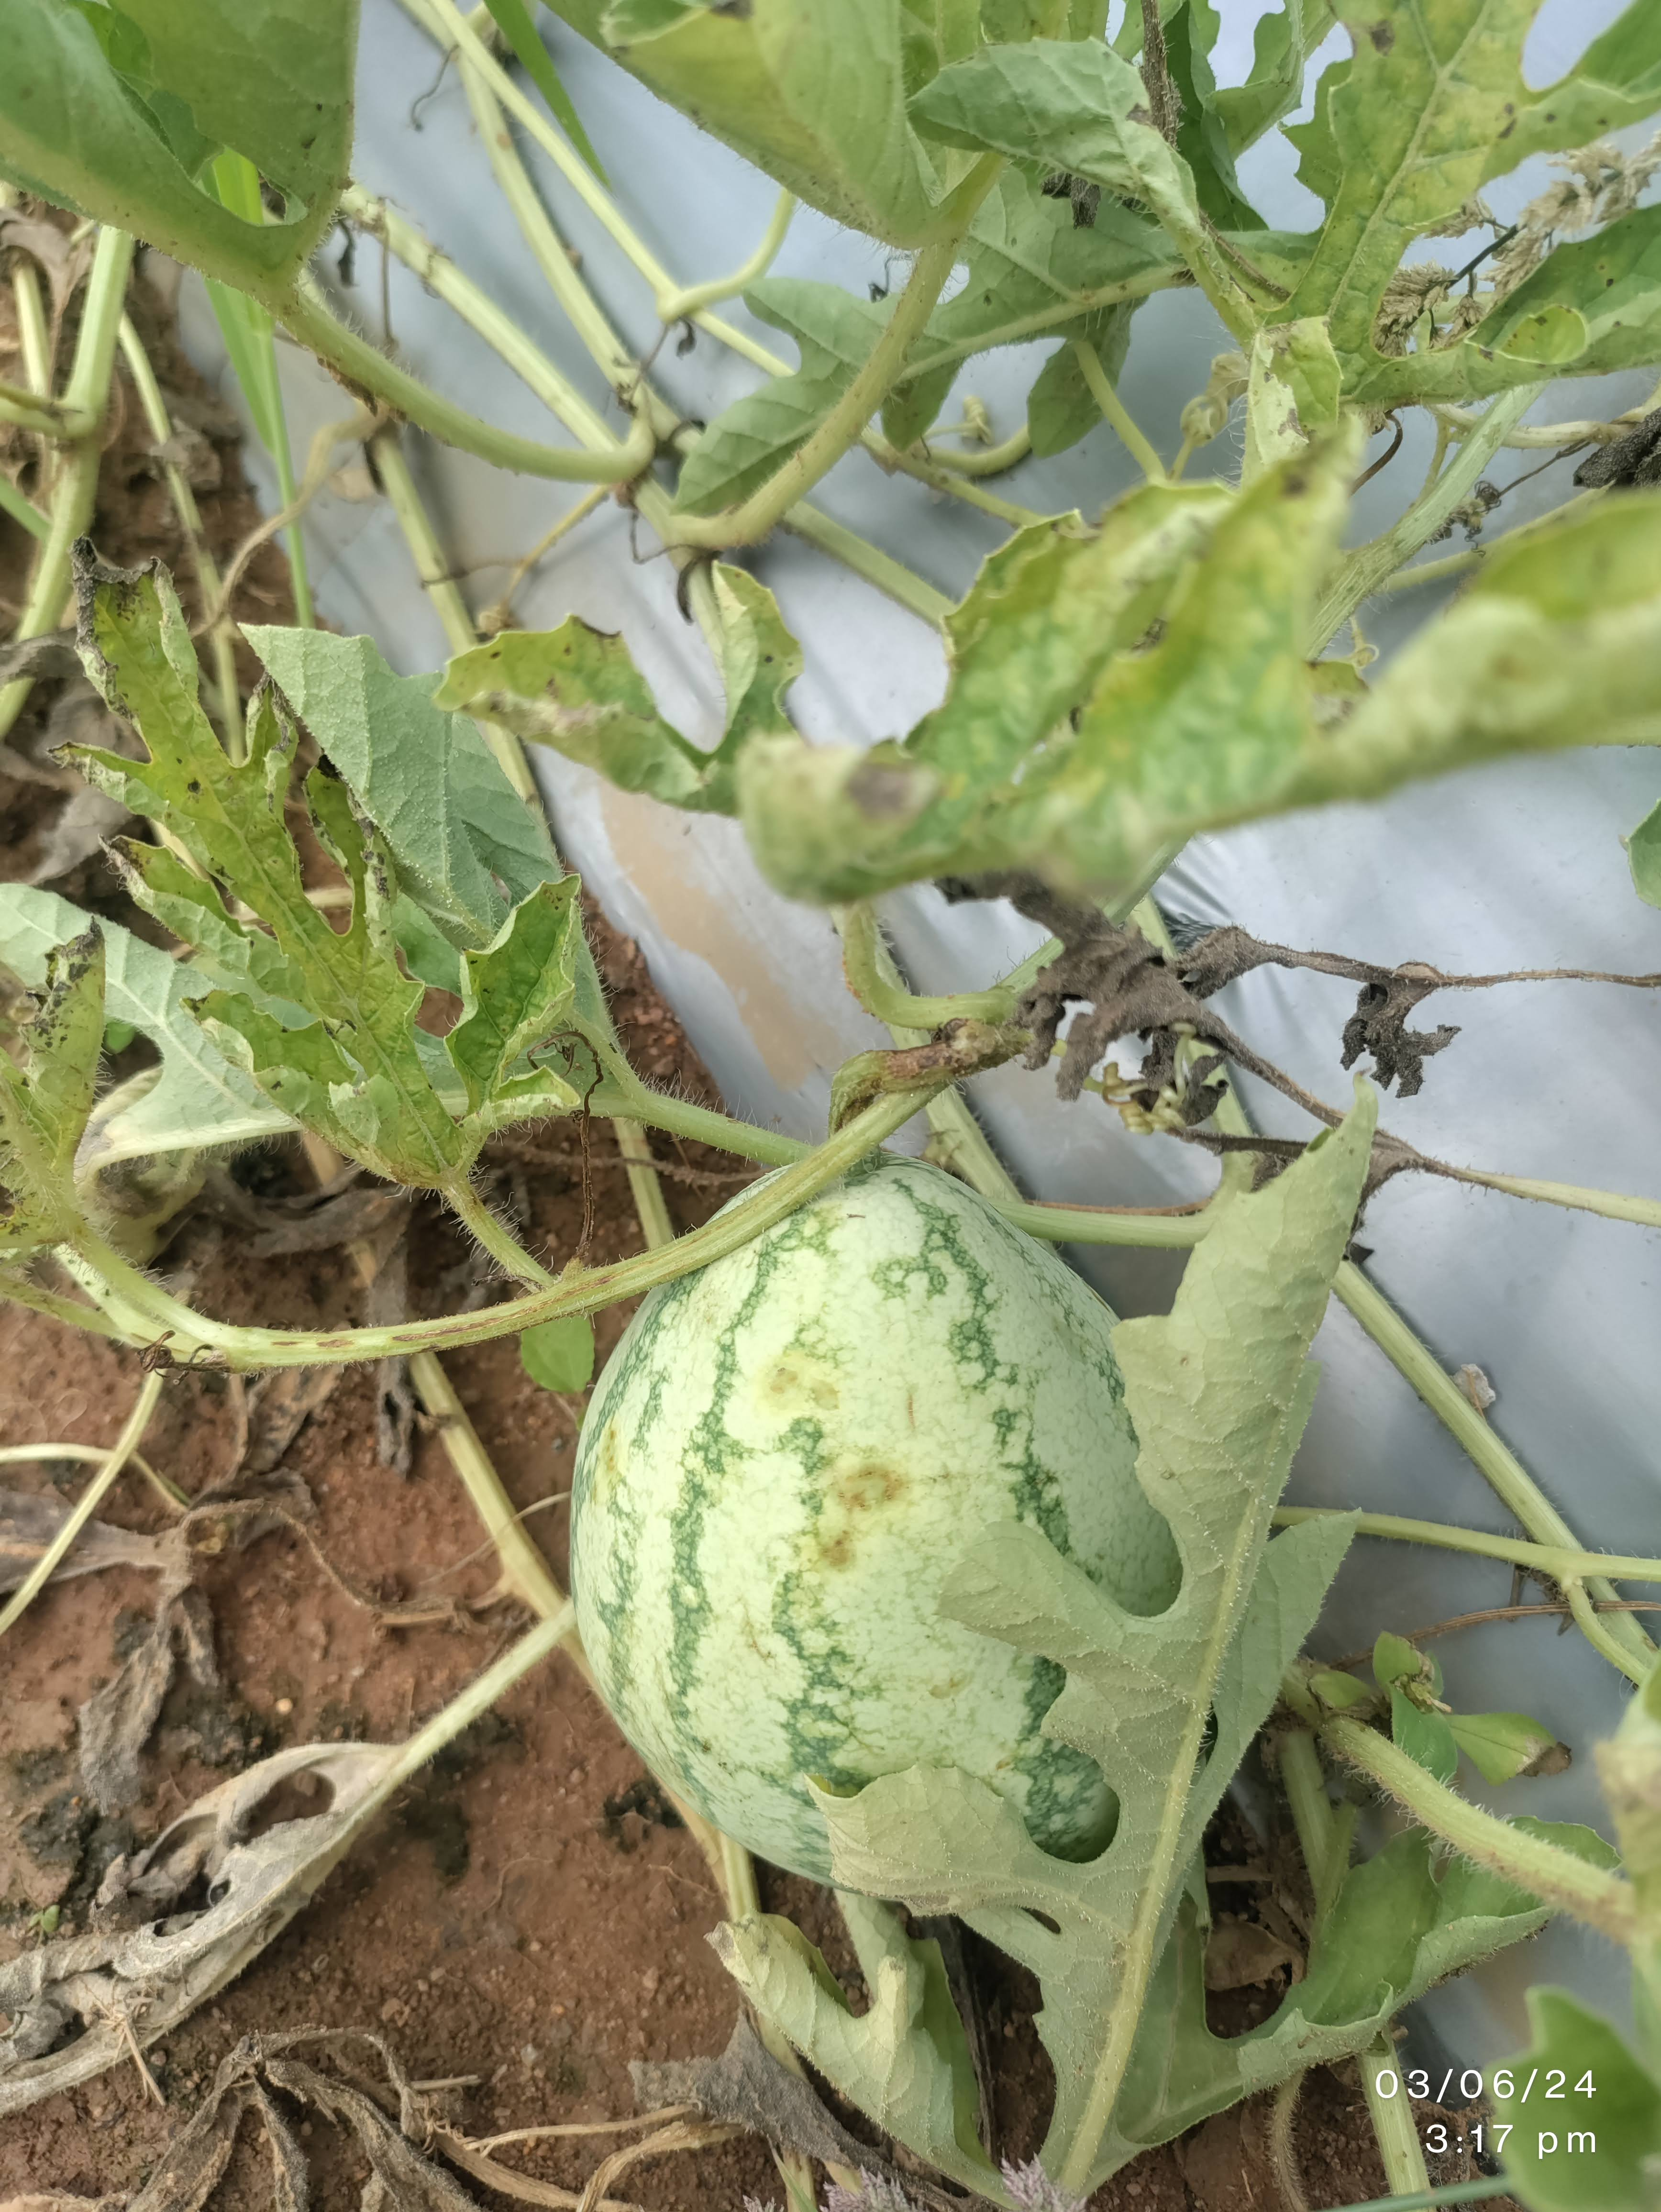not-good-to-harvest: (560, 1078, 1152, 1964)
